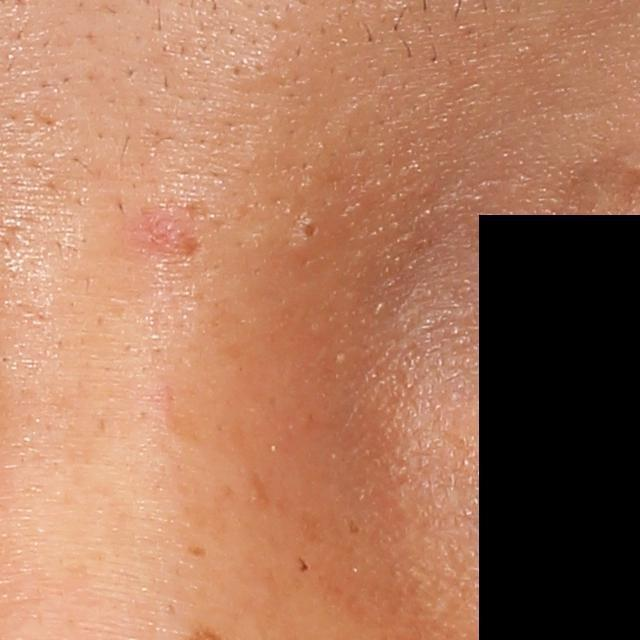comedo: (289, 212, 328, 254)
melasma: (244, 468, 272, 514), (298, 507, 327, 549), (179, 542, 212, 560), (297, 555, 311, 575), (347, 519, 362, 537)
